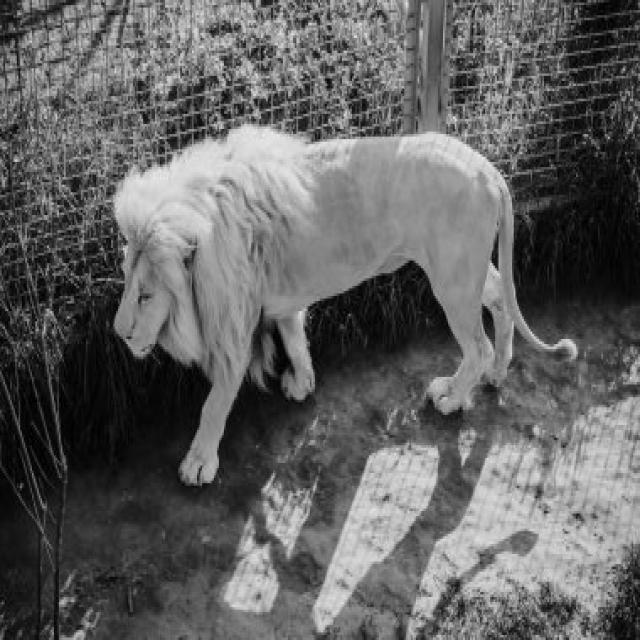Animal: (115, 126, 578, 485)
